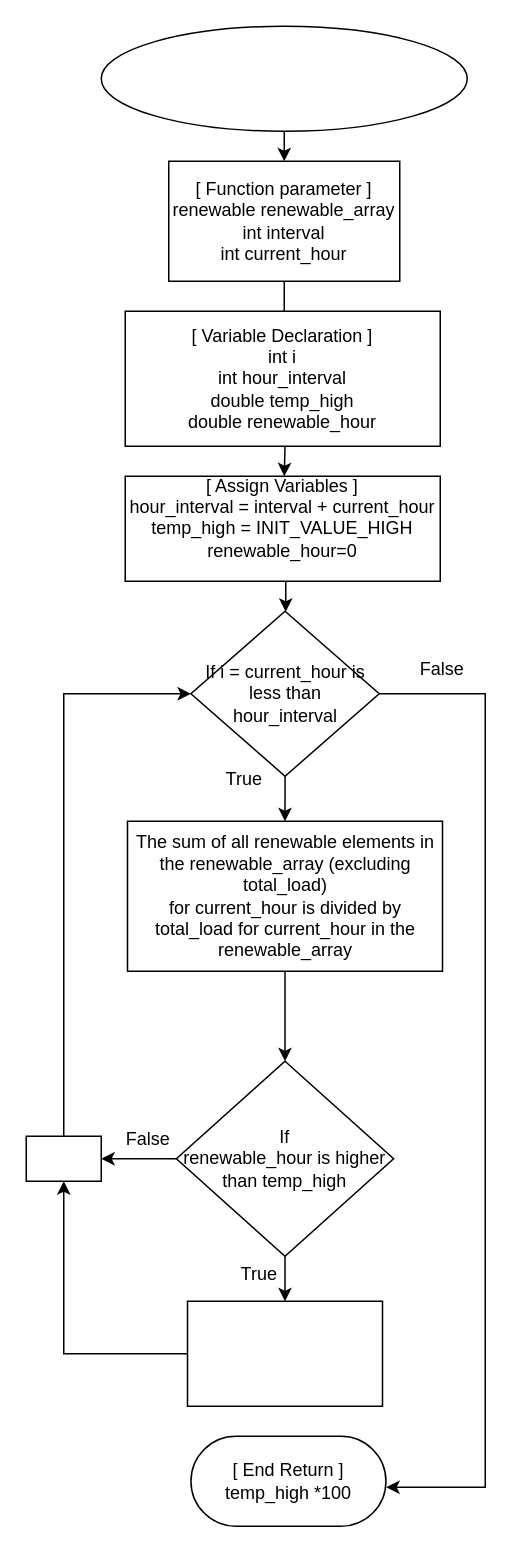
Image size: 524x1553. Some labels were removed from this diagram. Here are the shapes that lost their labels. From the top down, the centre of each, then its label:
point 283,78: [ Start ] highest_percentage_renewable_in_interval
point 63,1158: i++
point 284,1353: Set value of temp_high to renewable_hour
